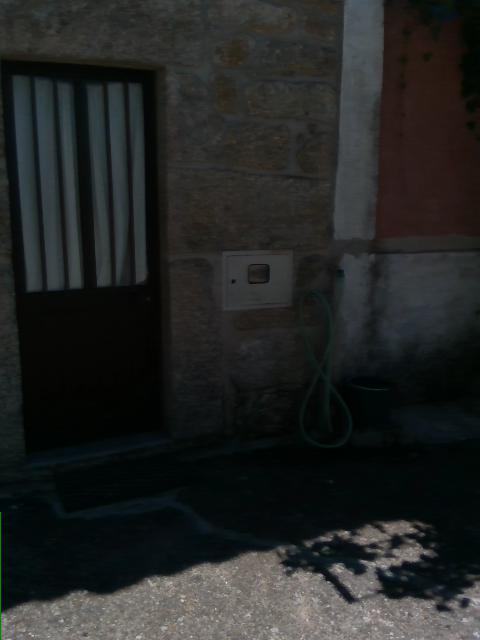door: (0, 47, 172, 470)
